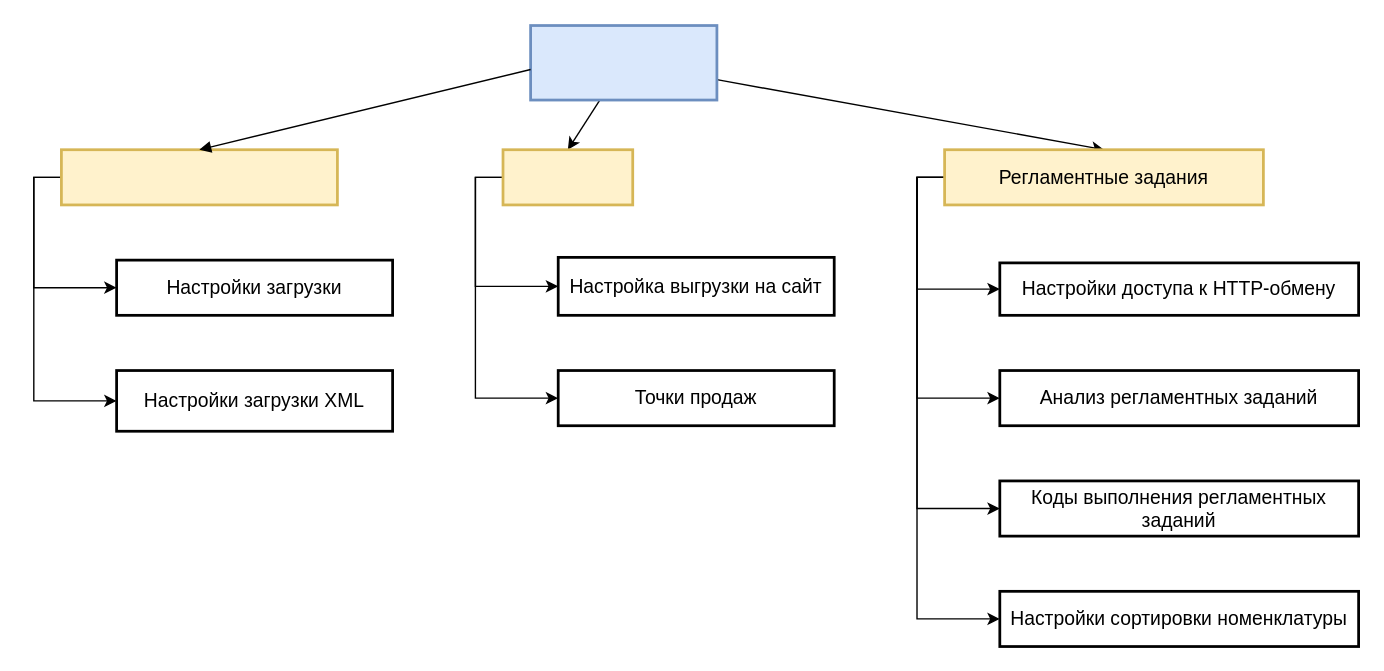
Image size: 1384x671. Some labels were removed from this diagram. Here are the shapes that lost their labels. From the top down, the centre of each, then its label:
At (623,62): "Дон-Шина".
At (198,177): "Работа с поставщиками".
At (567,177): "Сайт".
